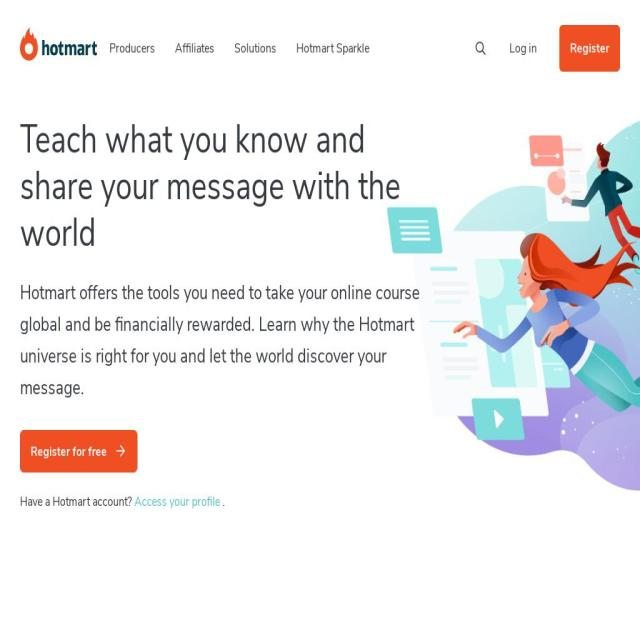button: (20, 429, 138, 473), (559, 25, 620, 72), (20, 27, 98, 61)
heading: (20, 116, 420, 256)
image: (380, 95, 640, 512), (20, 27, 98, 61)
text: (20, 276, 420, 403), (20, 492, 134, 511), (134, 492, 222, 511), (30, 442, 110, 461), (296, 39, 370, 58), (110, 39, 156, 58), (234, 39, 277, 58), (175, 39, 215, 58), (570, 39, 609, 58), (509, 39, 539, 58), (223, 492, 225, 511)
